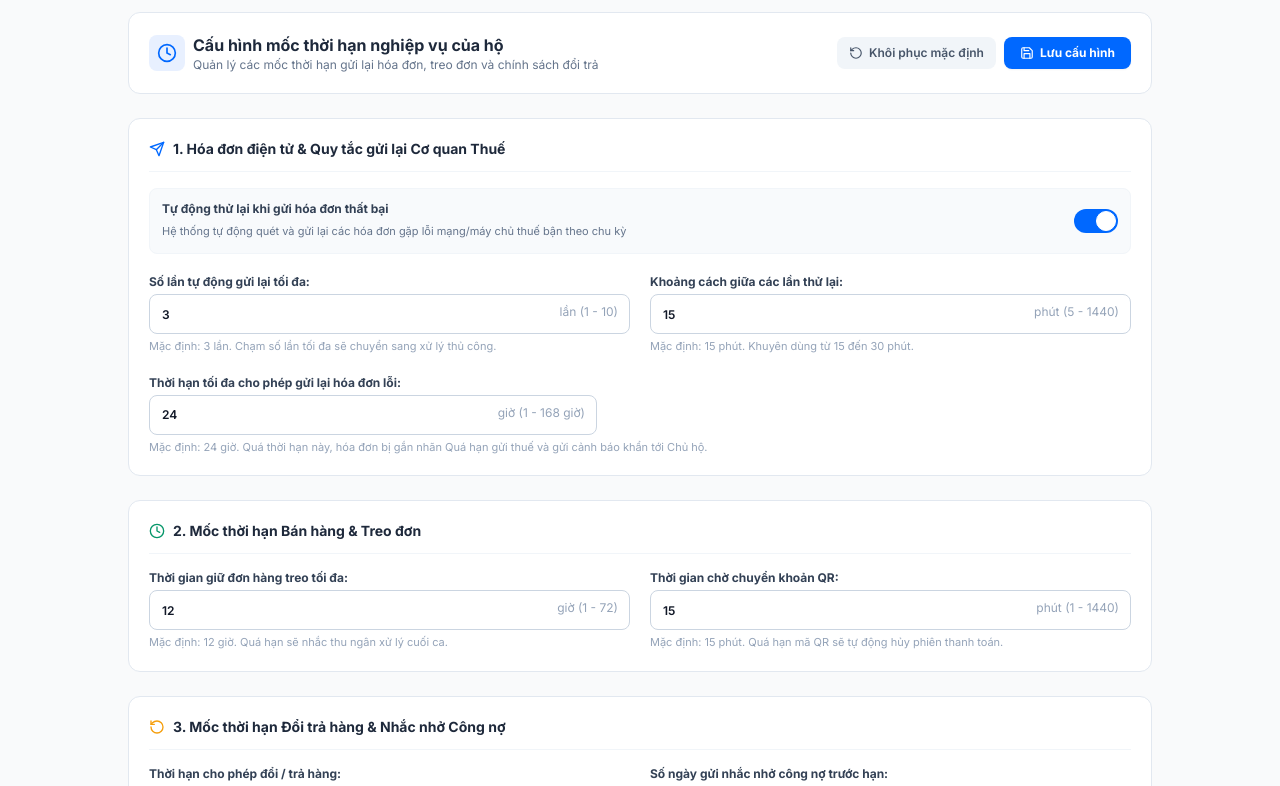
Cấu hình các mốc thời hạn nghiệp vụ của hộ › TC-02: Kiểm tra chặn giá trị ngoài khoảng hợp lệ (Validation Bounds checking)
Expected: the button "Lưu cấu hình" is enabled, [1004, 37, 1131, 69]
Max retry attempts out of bounds (min 1, max 10)
Replace the text in the number field named "Số lần tự động gửi lại tối đa" with "15": x=390, y=314 [149, 294, 630, 334]
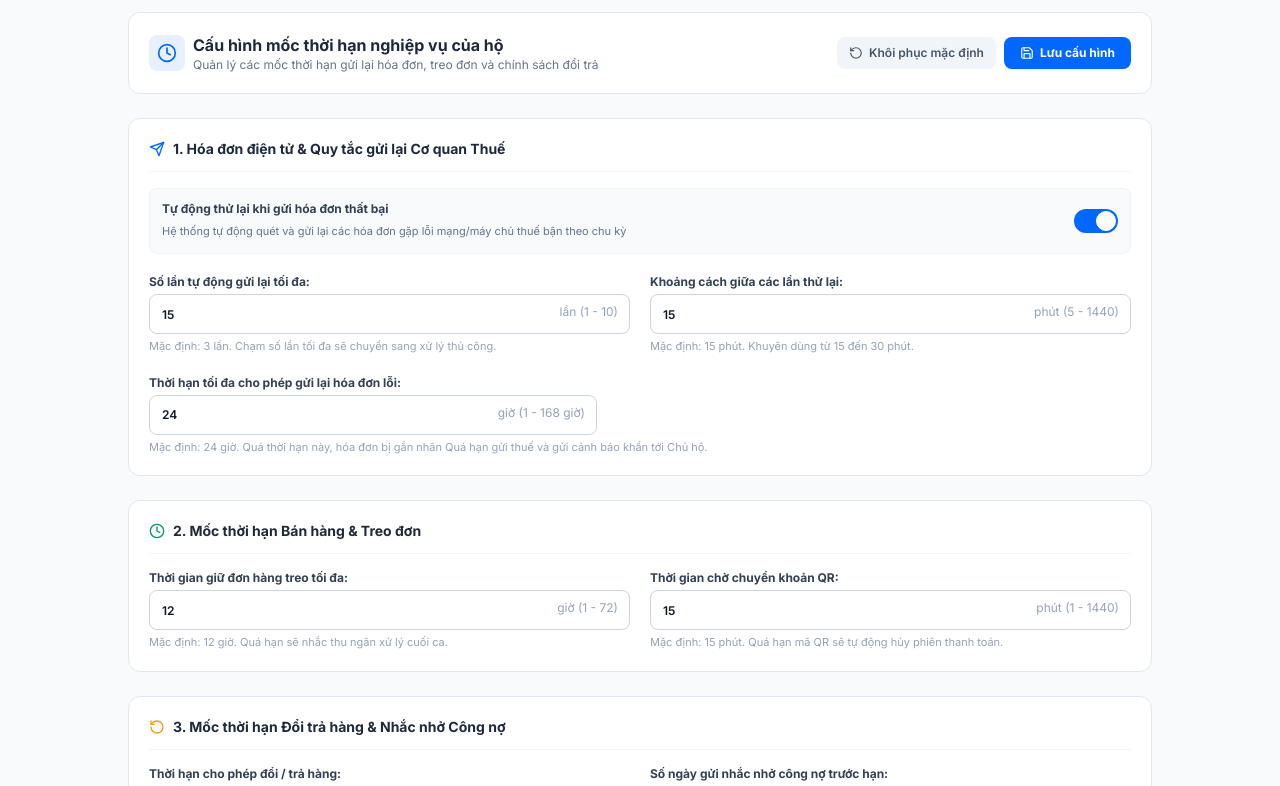
Retry interval out of bounds (min 5, max 1440)
Replace the text in the number field named "Khoảng cách giữa các lần thử lại" with "2": x=890, y=314 [650, 294, 1131, 334]
(page scrolled)
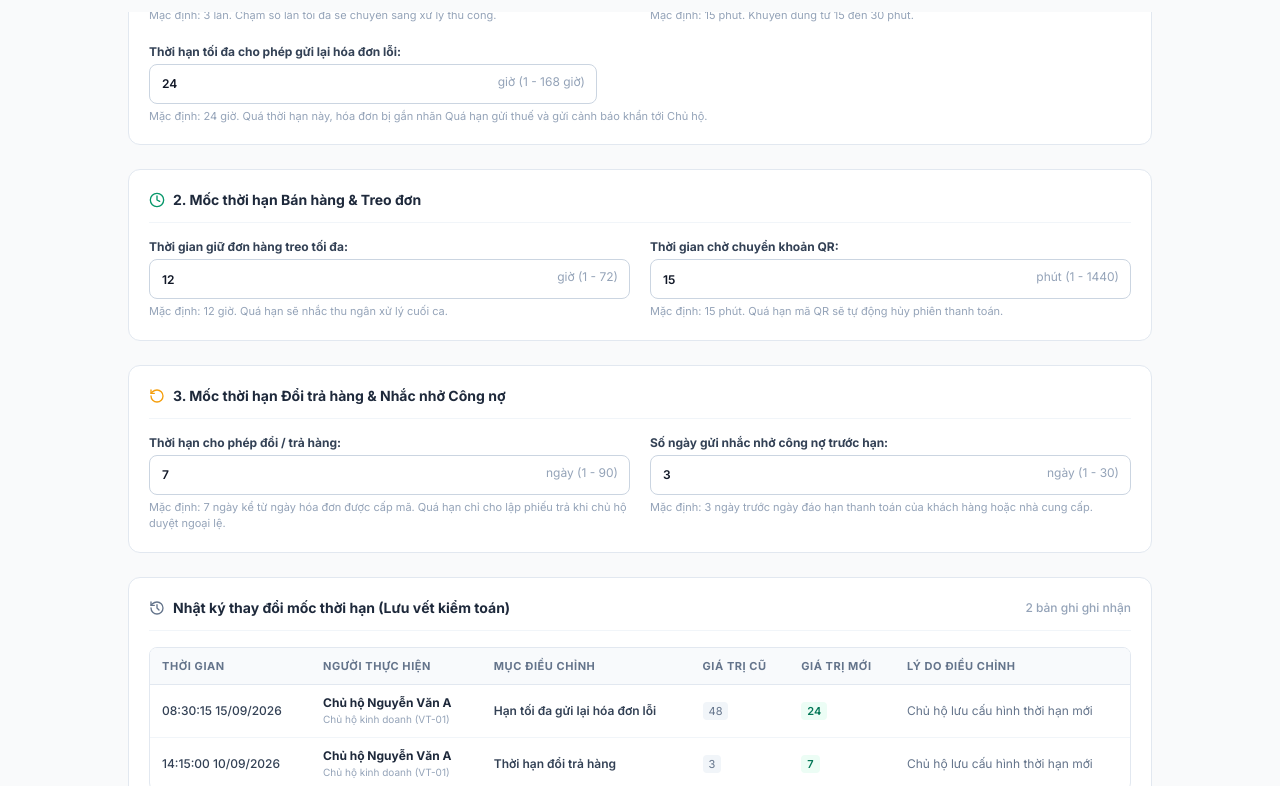
Return policy days out of bounds (min 1, max 90)
Replace the text in the number field named "Thời hạn cho phép đổi / trả hàng" with "120": x=390, y=474 [149, 454, 630, 494]
(page scrolled)
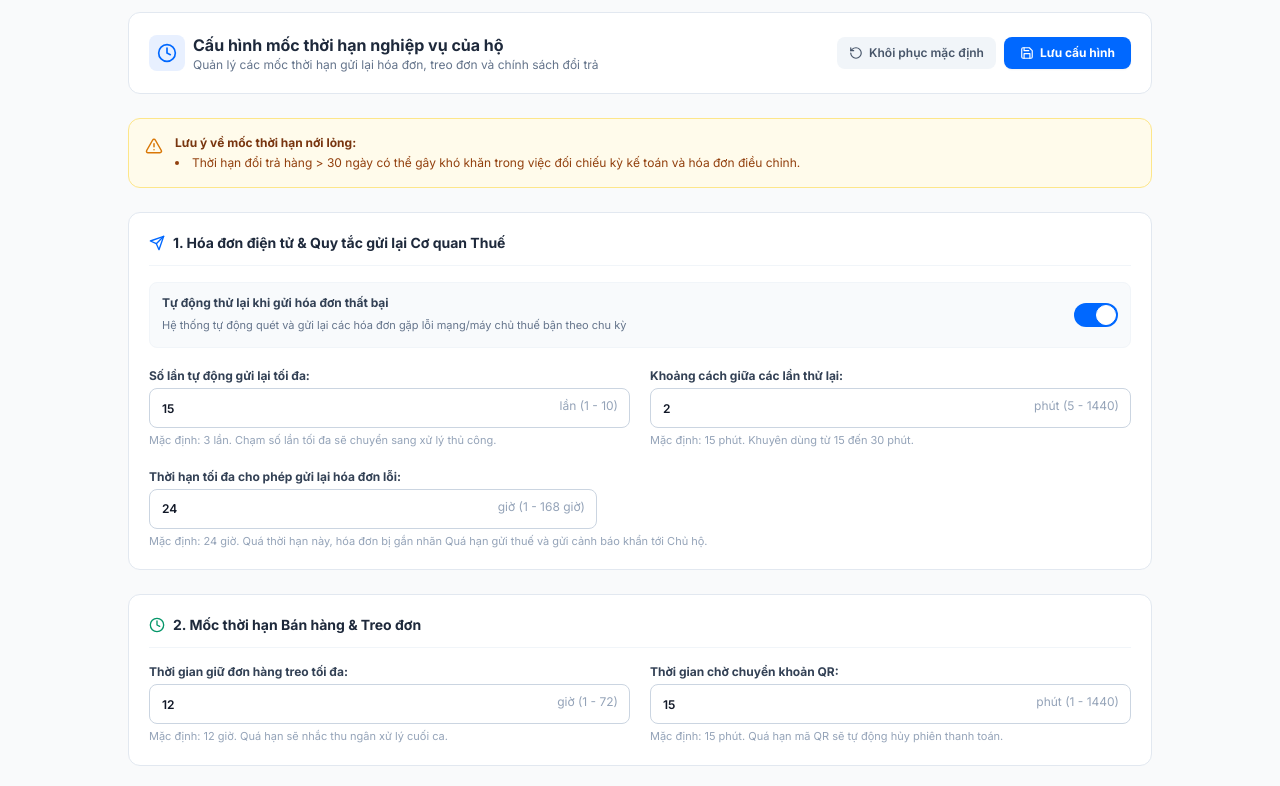
Click Save
Click the button "Lưu cấu hình": x=1068, y=53 [1004, 37, 1131, 69]
(page scrolled)
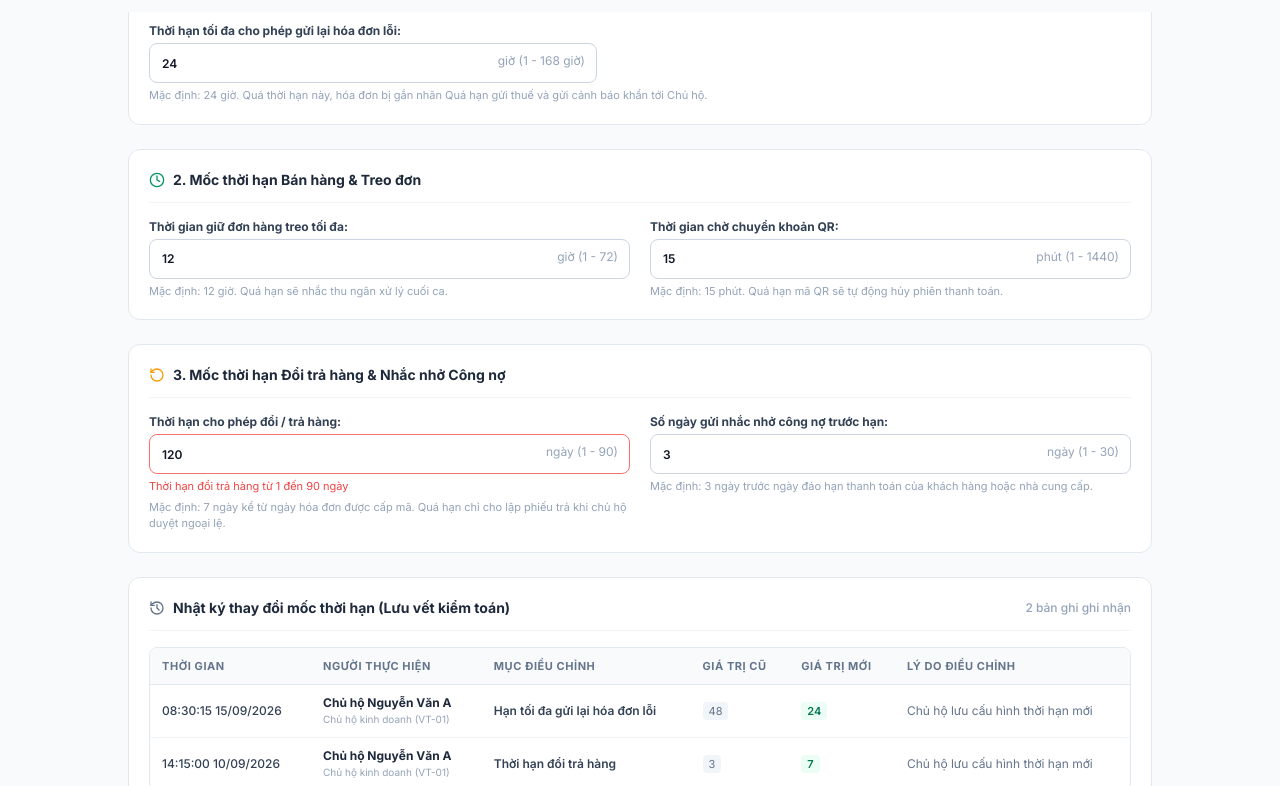
Result: the text "Thời hạn đổi trả hàng từ 1 đến 90 ngày" is shown at [149, 479, 348, 493]
